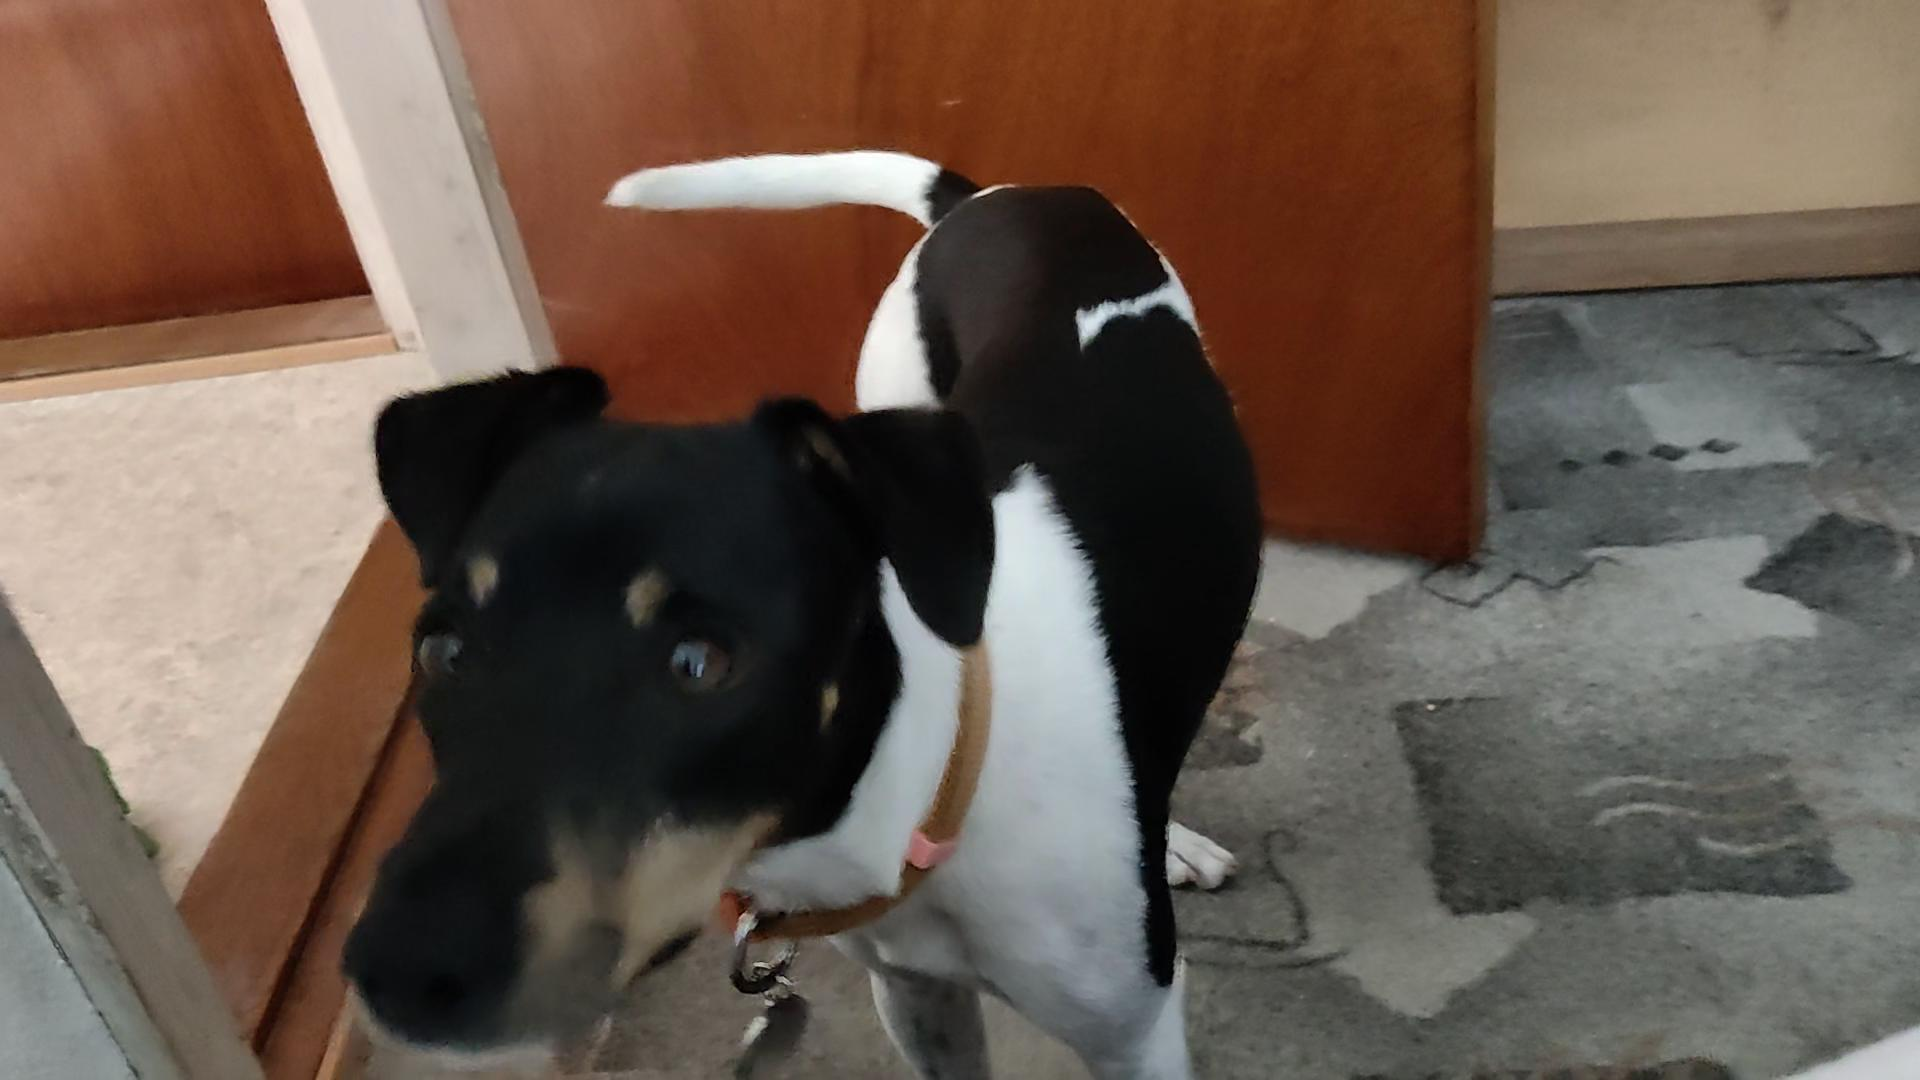Dog: (313, 108, 1302, 1079)
